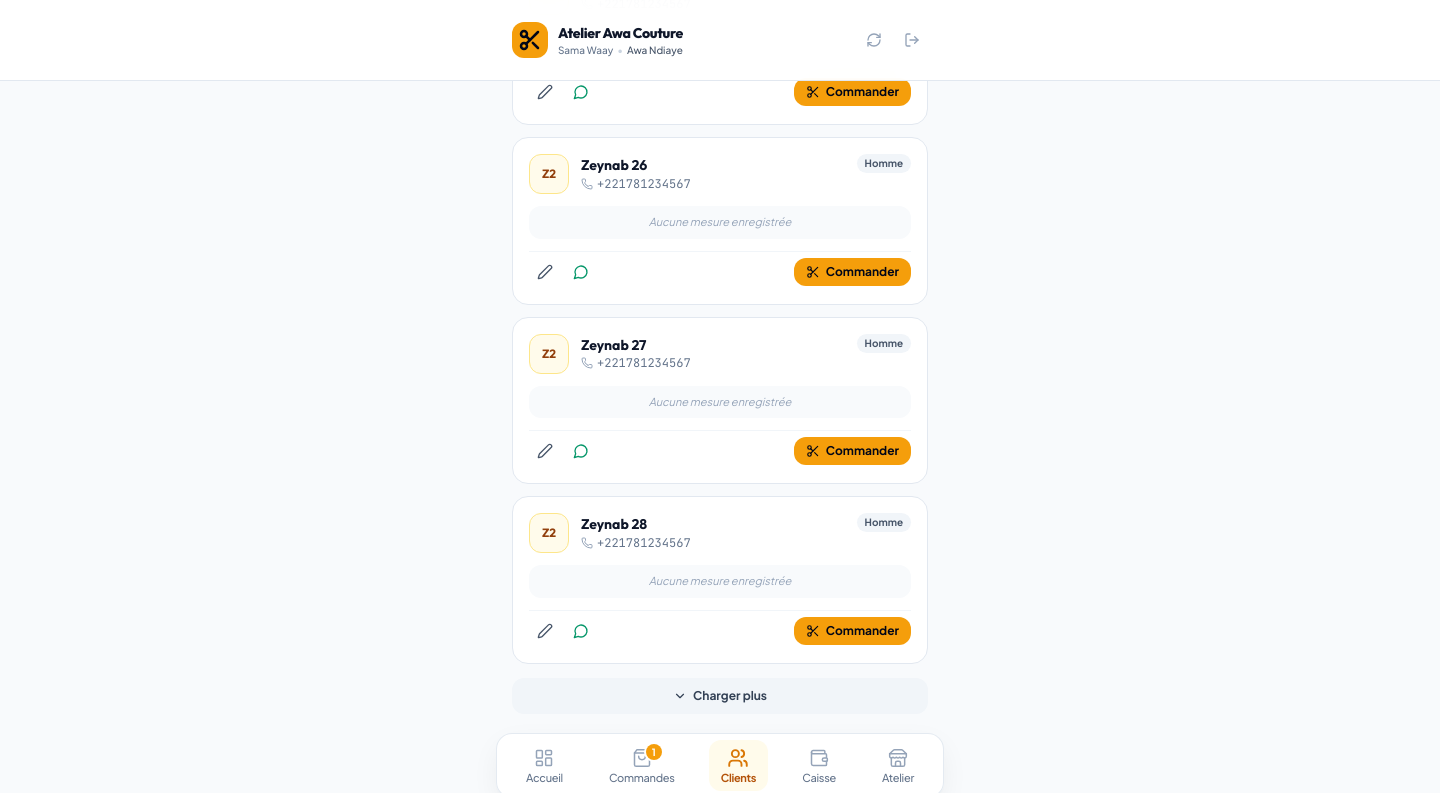
Scenario: listes paginées (« Charger plus ») › clientes : pagination et recherche serveur combinées
(page scrolled)
Click the button "Charger plus" at (720, 696), box x1=512 y1=678 x2=928 y2=714
(page scrolled)
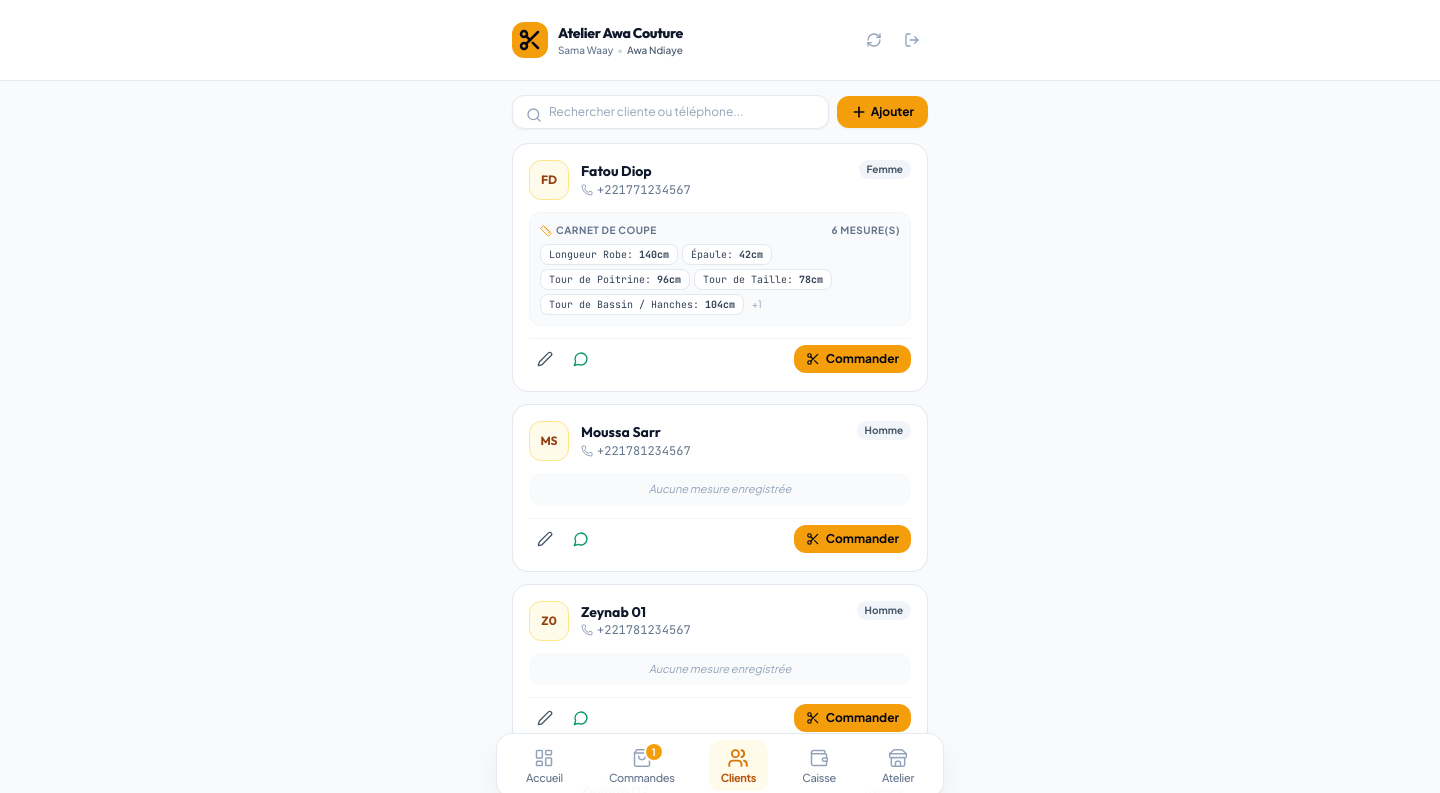
Type "fatou" into the field with placeholder "Rechercher cliente ou téléphone..." at (670, 112), box x1=512 y1=95 x2=829 y2=129
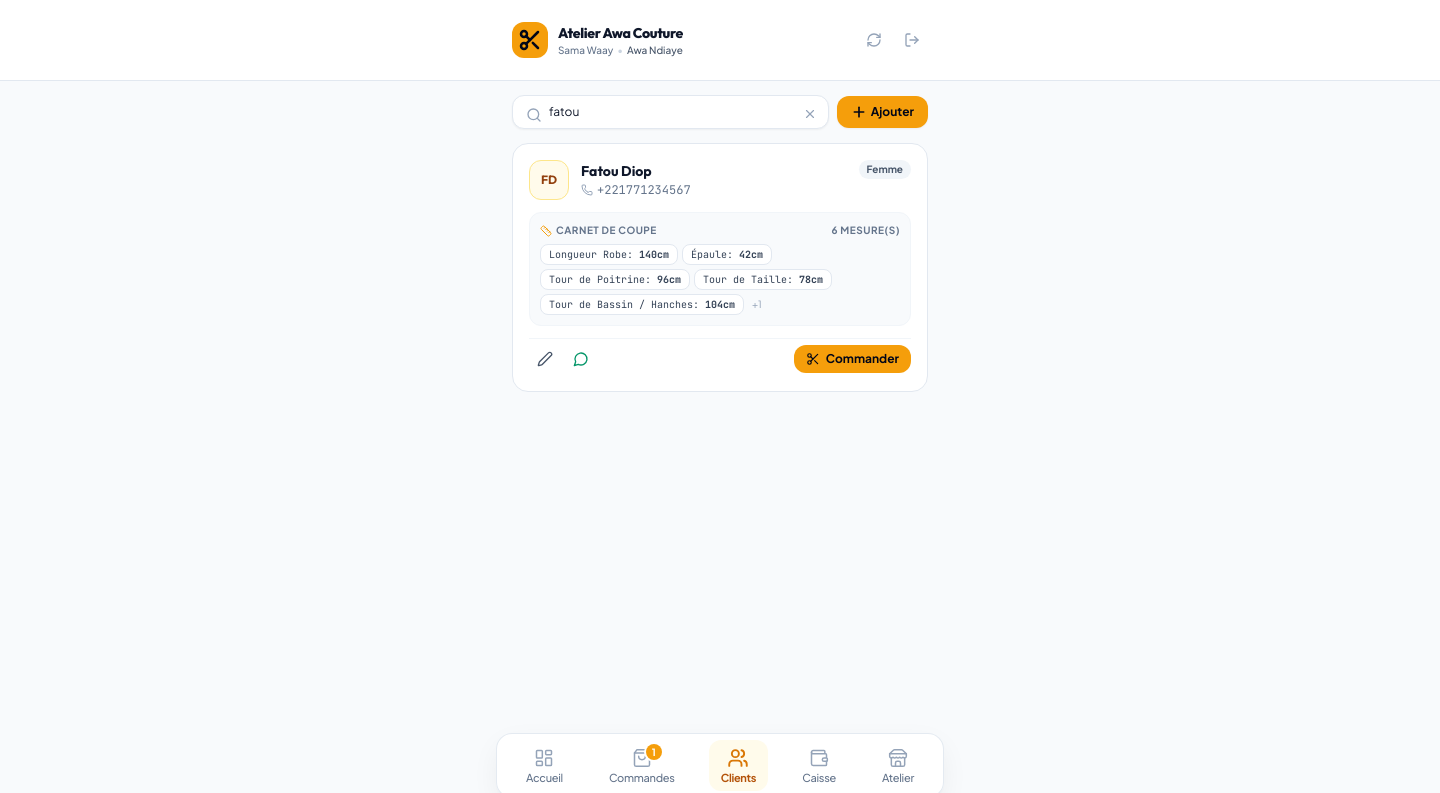
Expected: the heading "Zeynab 01" is gone
